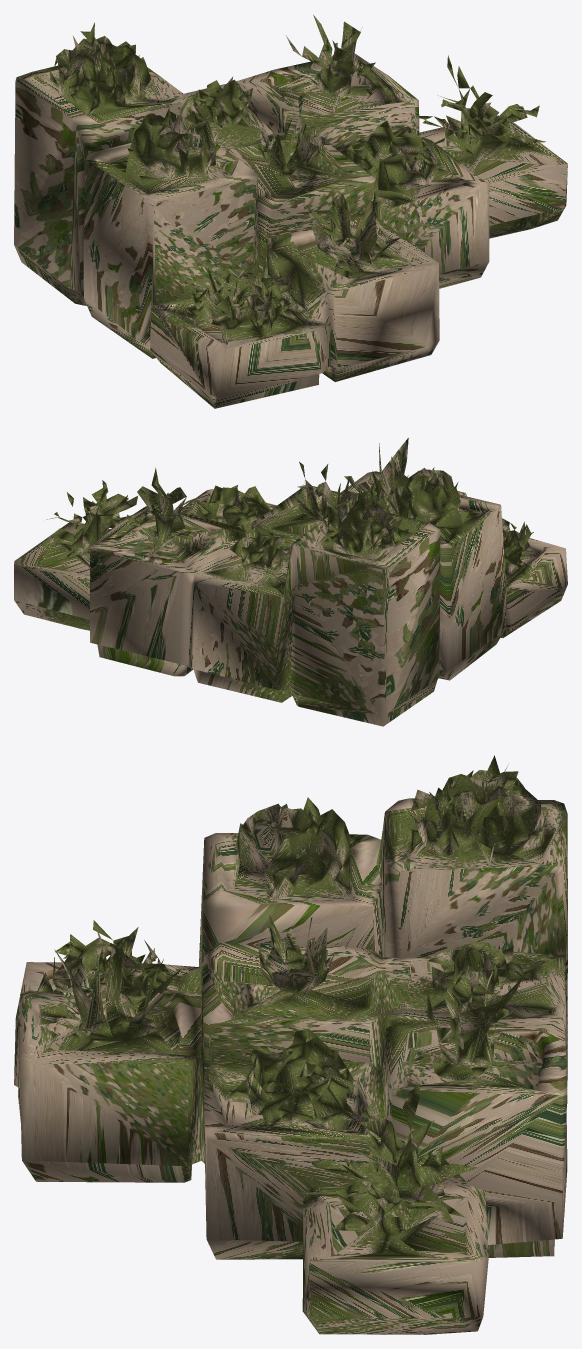
File: planters_lod1.glb
The picture shows the model from 3 angles, top to bottom: view 1: azimuth 30°, elevation 25°; view 2: azimuth 150°, elevation 25°; view 3: azimuth 270°, elevation 25°; orthographic projection. The views are drawn at different scales.
Size of the model in its own units: 1.83 by 0.9308 by 1.44.
1 material, 1 textured.
